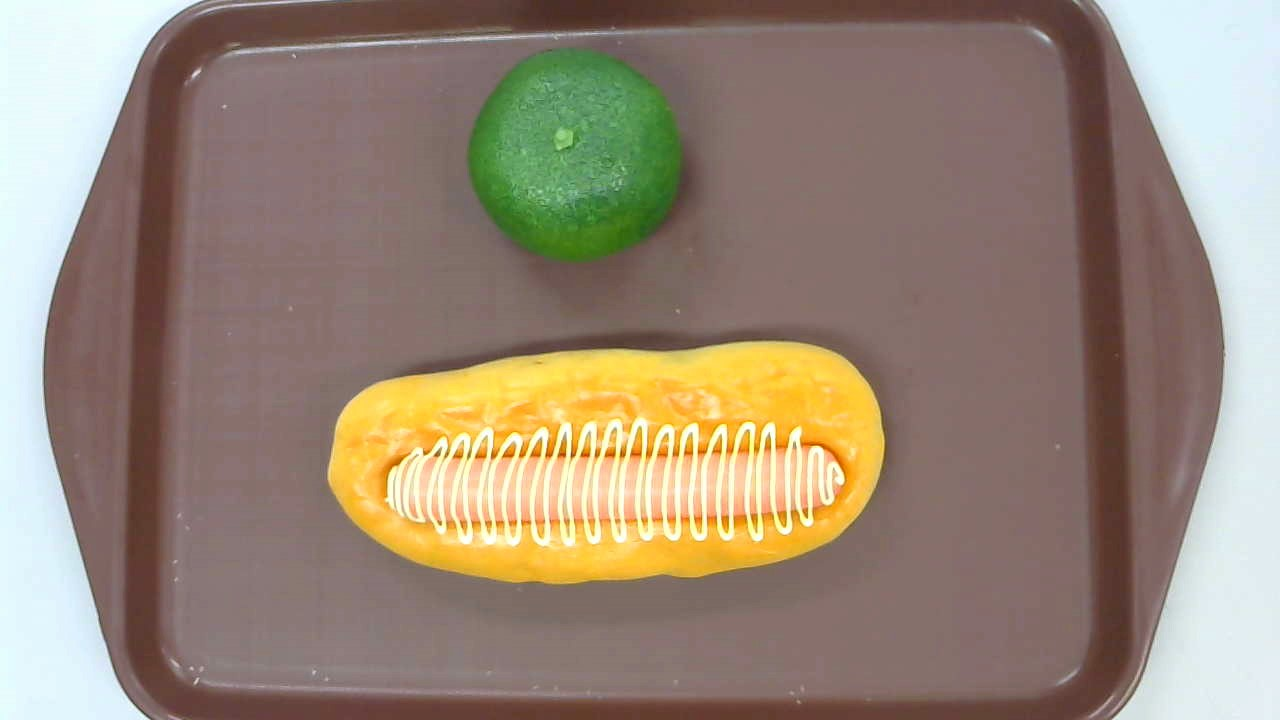green orange: (466, 49, 682, 263)
hot dog: (326, 340, 885, 584)
